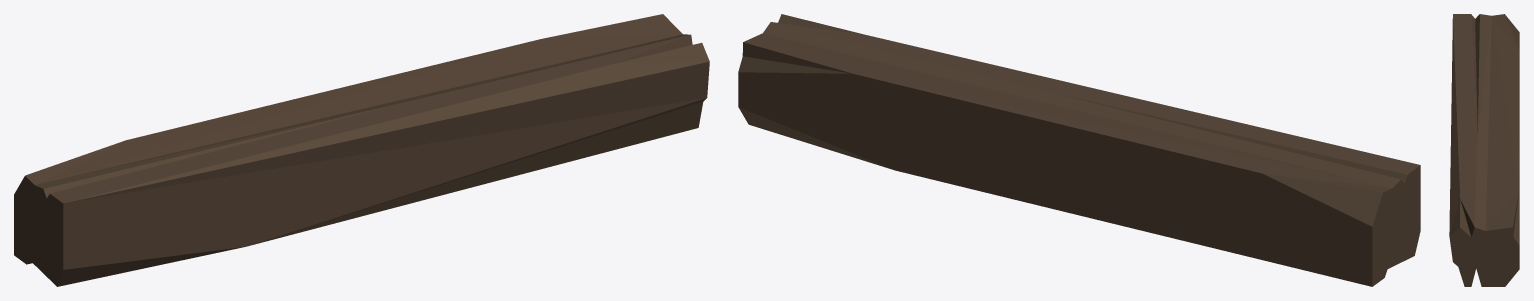
Rendered from Wood_Cube_Light.fbx.
3 views of the same model, side by side, from view 1: azimuth 30°, elevation 25°; view 2: azimuth 150°, elevation 25°; view 3: azimuth 270°, elevation 25° (orthographic). The views are drawn at different scales.
Visible parts, largest first — view 1: Wood_Cube_Light; view 2: Wood_Cube_Light; view 3: Wood_Cube_Light.
Part boxes in pixels (x1,y1,x2,y2): Wood_Cube_Light: [14, 14, 709, 286]; Wood_Cube_Light: [738, 14, 1420, 286]; Wood_Cube_Light: [1449, 14, 1519, 286].
Bounding box in the file's own units: 1124 × 147 × 156.
